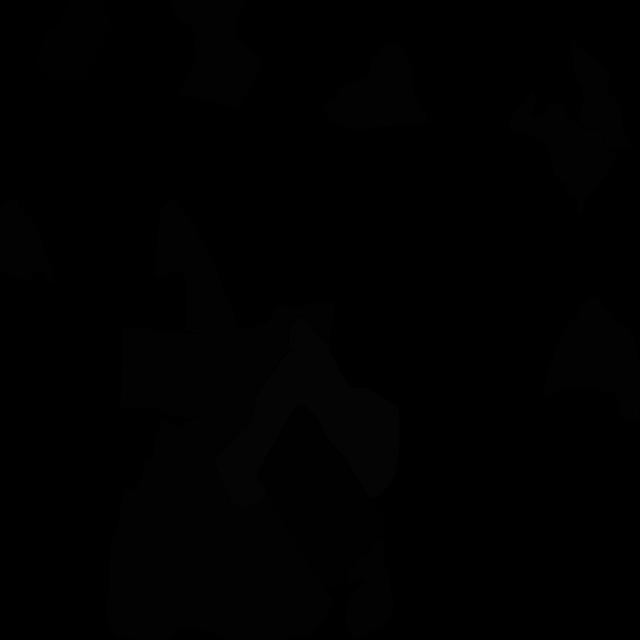cardboard: (106, 459, 336, 640), (121, 302, 336, 417), (508, 91, 619, 213), (544, 297, 640, 420), (155, 199, 238, 335), (167, 0, 262, 108), (142, 399, 256, 487), (322, 42, 432, 131), (572, 41, 634, 150), (345, 537, 394, 639), (0, 198, 54, 284)
rigid_plastic: (256, 404, 384, 589), (34, 0, 112, 82)
soft_plastic: (288, 317, 400, 498), (215, 350, 343, 507)
